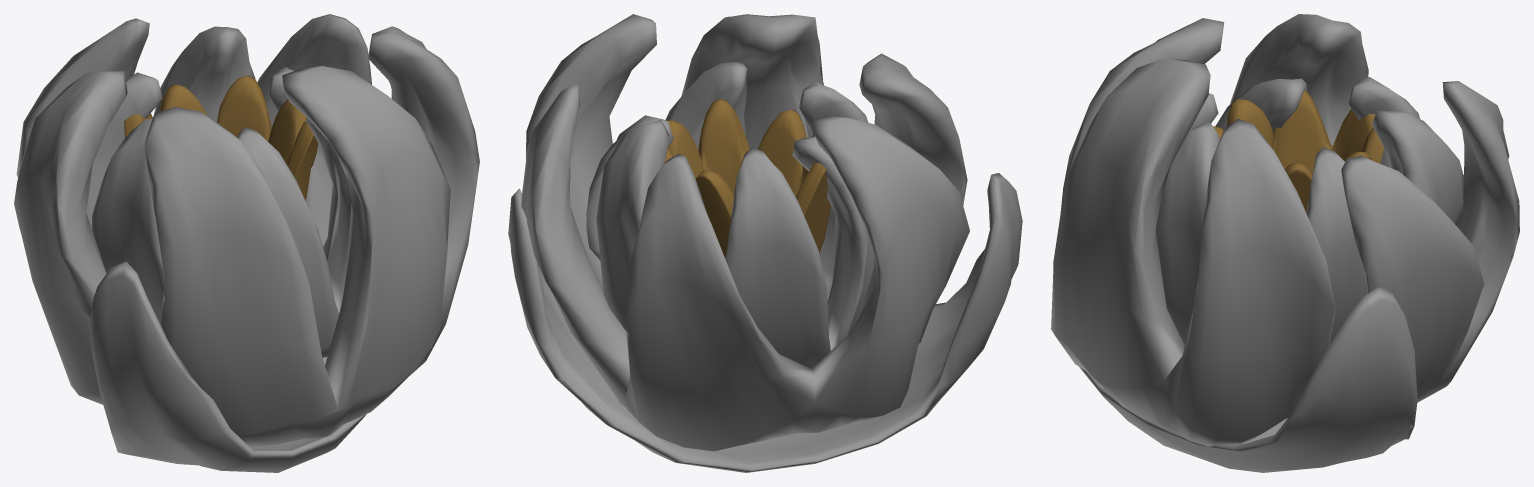
File: Lily_Flower.fbx
3 renders of one model, left to right at view 1: azimuth 30°, elevation 25°; view 2: azimuth 150°, elevation 25°; view 3: azimuth 270°, elevation 25°, orthographic.
Visible parts, largest first — view 1: pPlane44; view 2: pPlane44; view 3: pPlane44.
Boxes of the visible parts, left/top/right/bottom form: pPlane44: left=14, top=14, right=479, bottom=472; pPlane44: left=508, top=14, right=1022, bottom=472; pPlane44: left=1051, top=14, right=1519, bottom=472.
Bounding box in the file's own units: 10.53 × 9.73 × 10.36.
